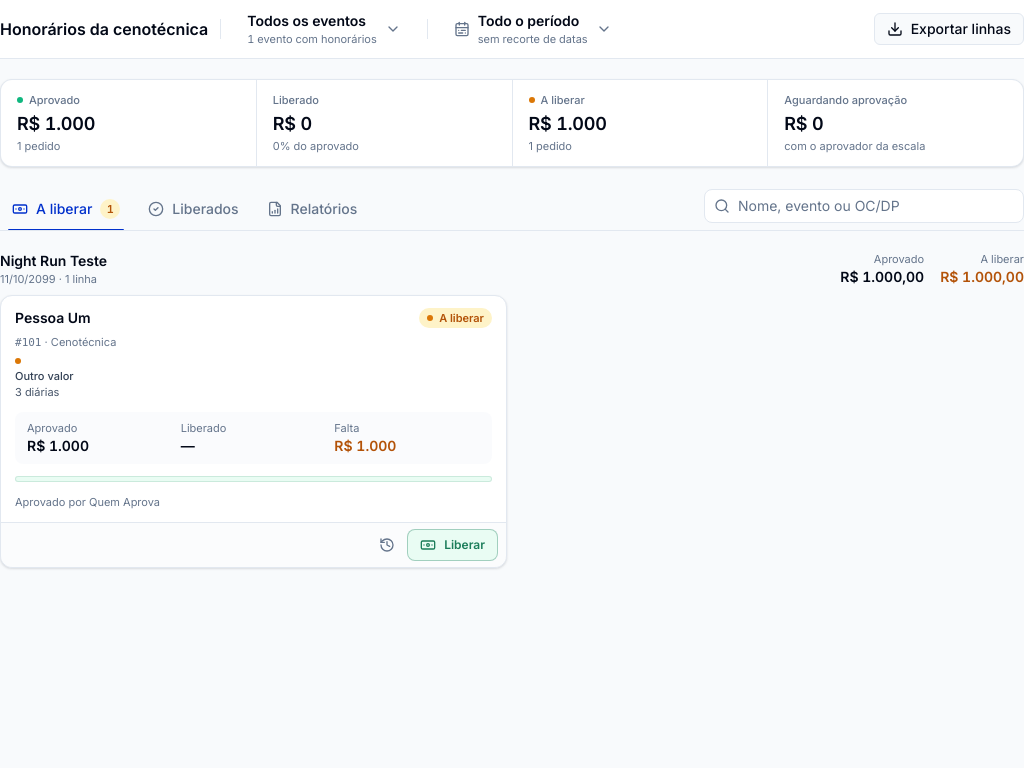
Test: Honorários — Financeiro › “Liberar o resto” abre o diálogo limpo: OC em branco e o valor que falta (não o da liberação anterior)
Click the button with aria-label "Registrar liberação de Pessoa Um" at (453, 545), box x1=407 y1=529 x2=498 y2=561
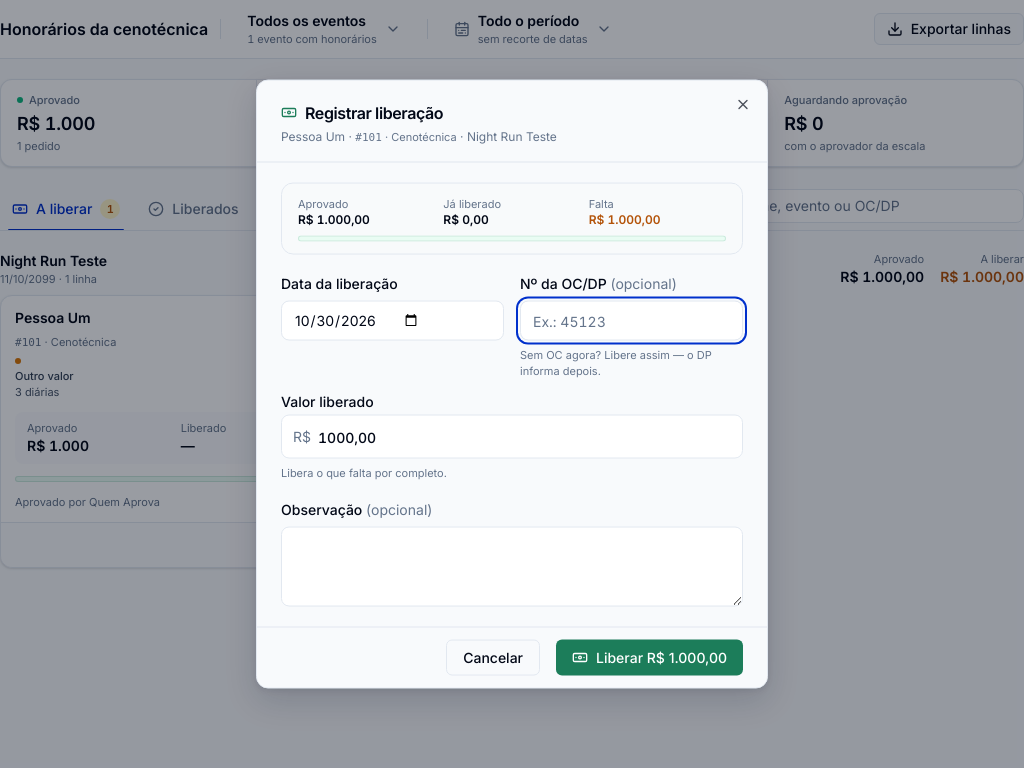
Type "45123" into the field labelled "Nº da OC/DP (opcional)" at (632, 320), box x1=520 y1=300 x2=743 y2=340
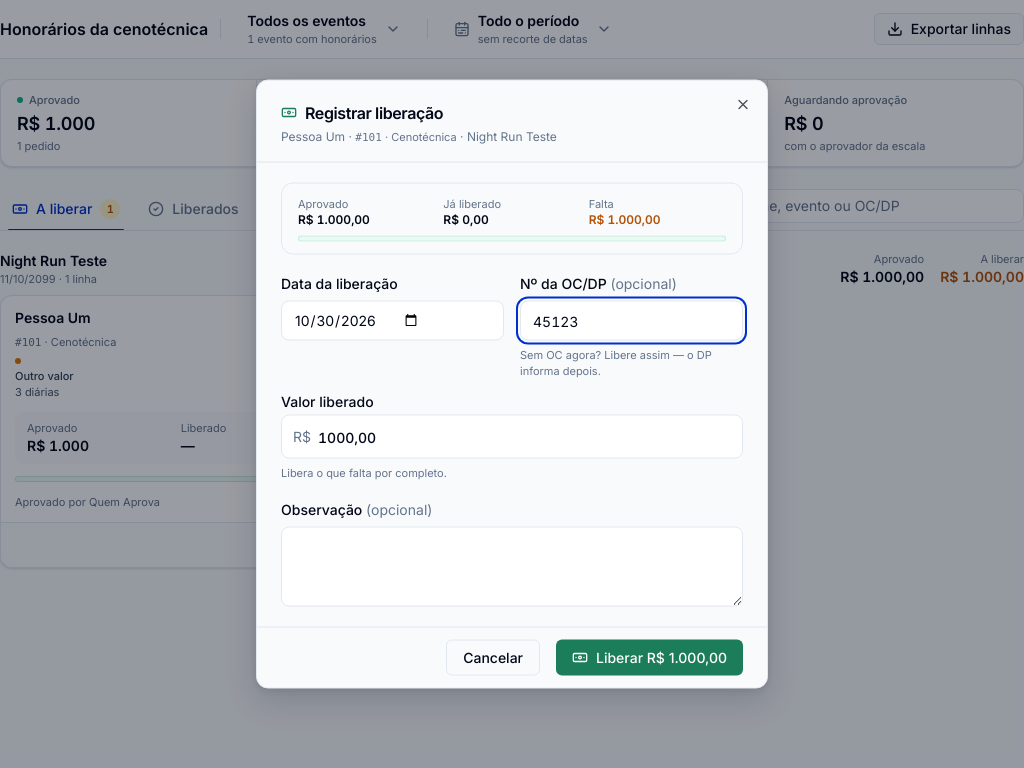
Replace the text in the field labelled "Valor liberado" with "400" at (512, 436), box x1=281 y1=414 x2=743 y2=458
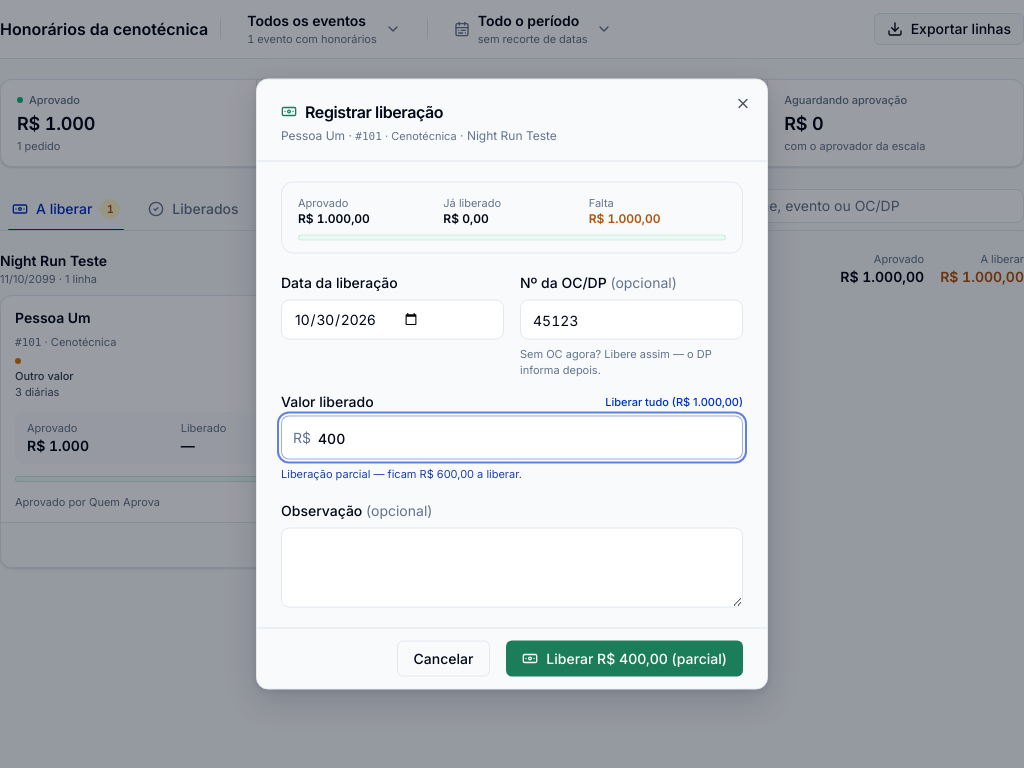
Click the button "Liberar R$ 400,00 (parcial)" at (625, 658), box x1=506 y1=640 x2=743 y2=676
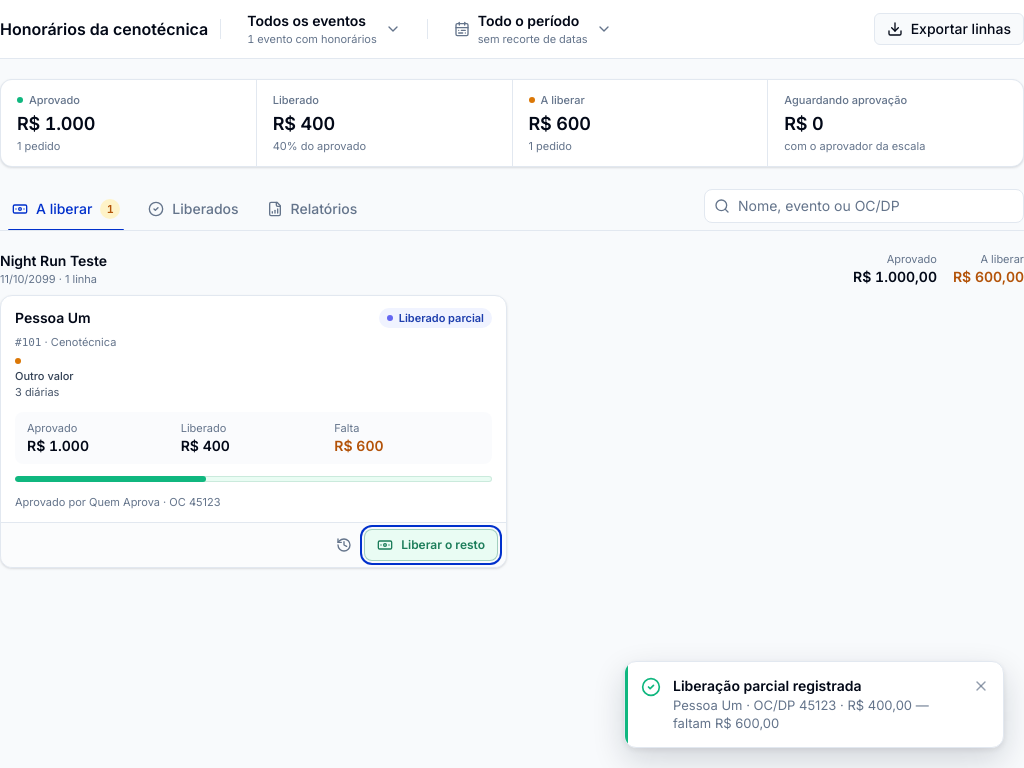
Expected: the dialog is gone
Click the button with aria-label "Registrar liberação de Pessoa Um" at (431, 545), box x1=364 y1=529 x2=498 y2=561
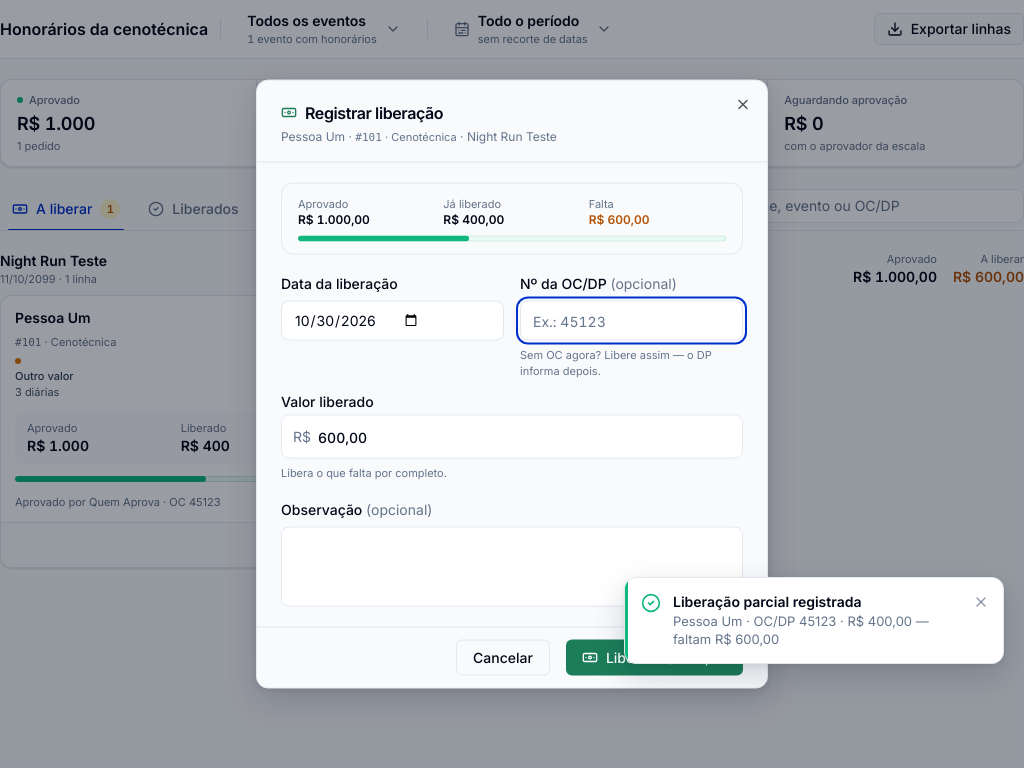
Expected: the field labelled "Nº da OC/DP (opcional)" is empty, x1=520 y1=300 x2=743 y2=340
Expected: the field labelled "Valor liberado" holds "600,00", x1=281 y1=414 x2=743 y2=458
